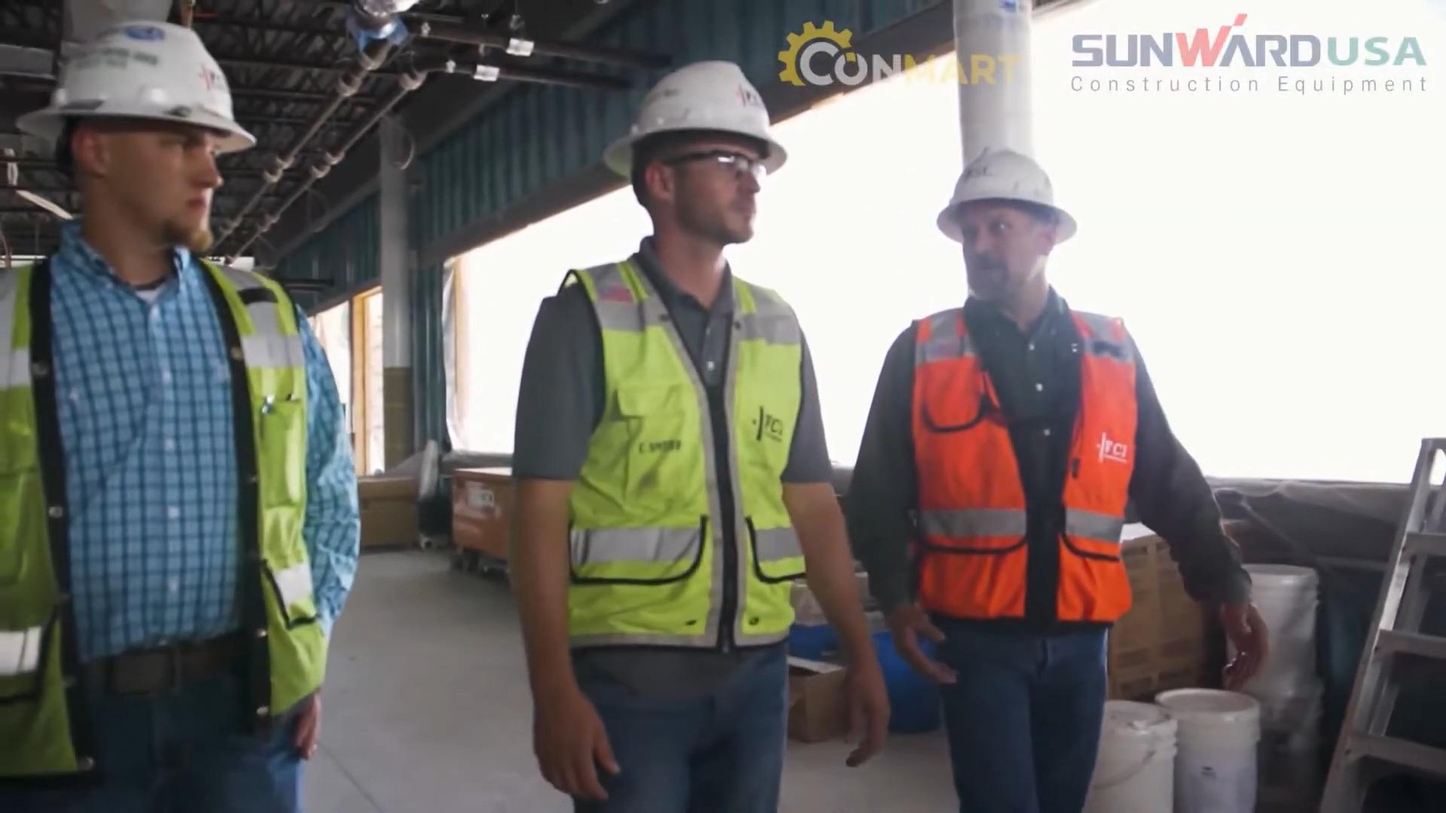Helmet: (5, 12, 268, 172), (602, 59, 787, 179), (934, 139, 1075, 244)
Person: (506, 59, 892, 811), (843, 145, 1270, 811), (0, 7, 357, 781)
Safety Vest: (0, 248, 338, 696), (567, 276, 797, 642), (902, 326, 1163, 606)
bare-arms: (1210, 562, 1284, 689), (524, 694, 621, 785), (840, 663, 892, 788), (889, 586, 957, 678), (284, 672, 341, 760)
